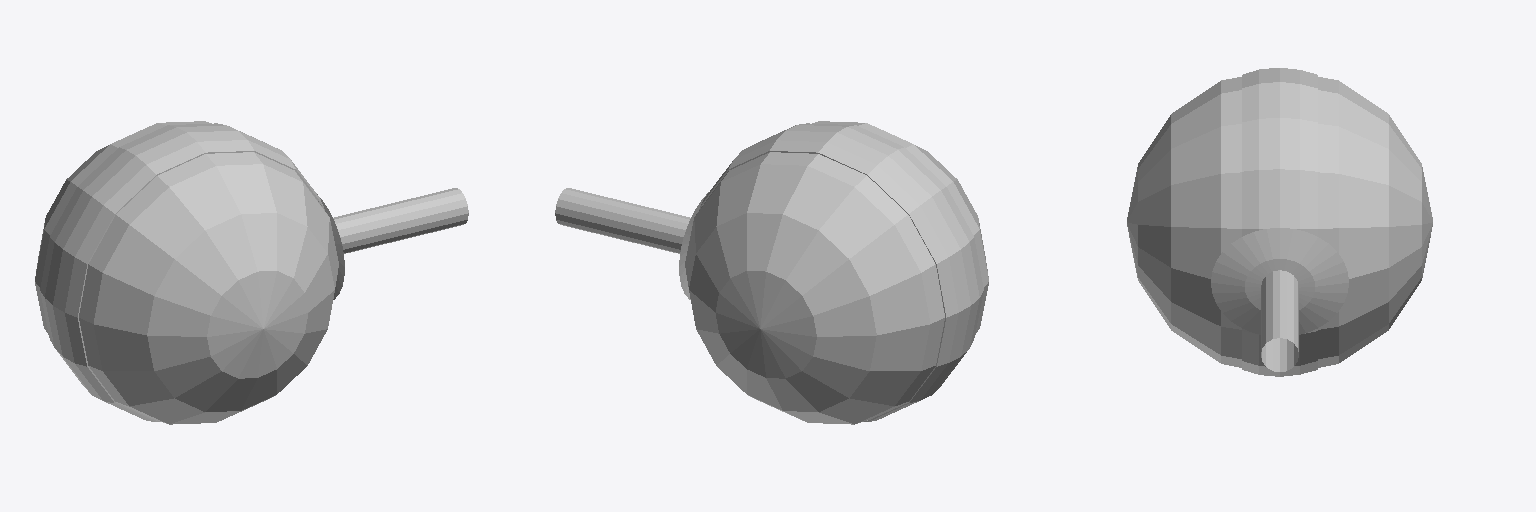
File: Otto_XXV.obj
3 views of the same model, side by side, from view 1: azimuth 30°, elevation 25°; view 2: azimuth 150°, elevation 25°; view 3: azimuth 270°, elevation 25° (orthographic).
Parts seen in each view (by area): view 1: Sphere.002, BezierCurve.001, Cylinder, Sphere.001; view 2: Sphere.002, BezierCurve.001, Cylinder, Sphere.001; view 3: Sphere.002, BezierCurve.001, Sphere.001, Cylinder.
Part boxes in pixels (x1,y1,x2,y2): Sphere.002: (35,121,338,424); BezierCurve.001: (40,123,324,421); Cylinder: (333,188,468,253); Sphere.001: (317,194,344,299); Sphere.002: (685,121,988,424); BezierCurve.001: (699,123,983,421); Cylinder: (555,188,690,253); Sphere.001: (679,192,708,299); Sphere.002: (1127,77,1432,367); BezierCurve.001: (1242,68,1317,376); Sphere.001: (1211,228,1348,334); Cylinder: (1261,270,1298,371).
Size of the model in its own units: 0.688 by 0.454 by 0.45.